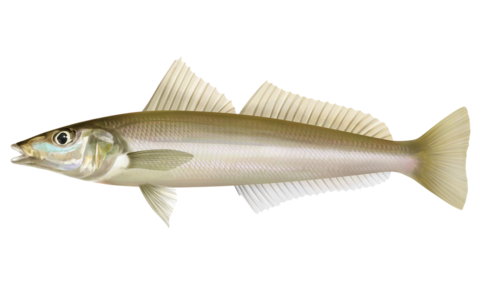kiss: (10, 96, 473, 212)
